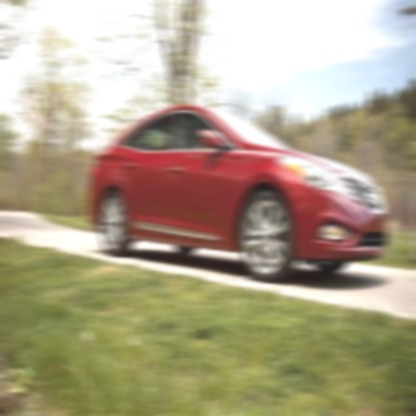Vehicle: (81, 100, 390, 278)
